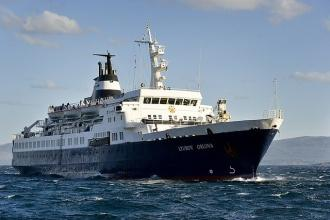Cargoship: (7, 30, 286, 174)
